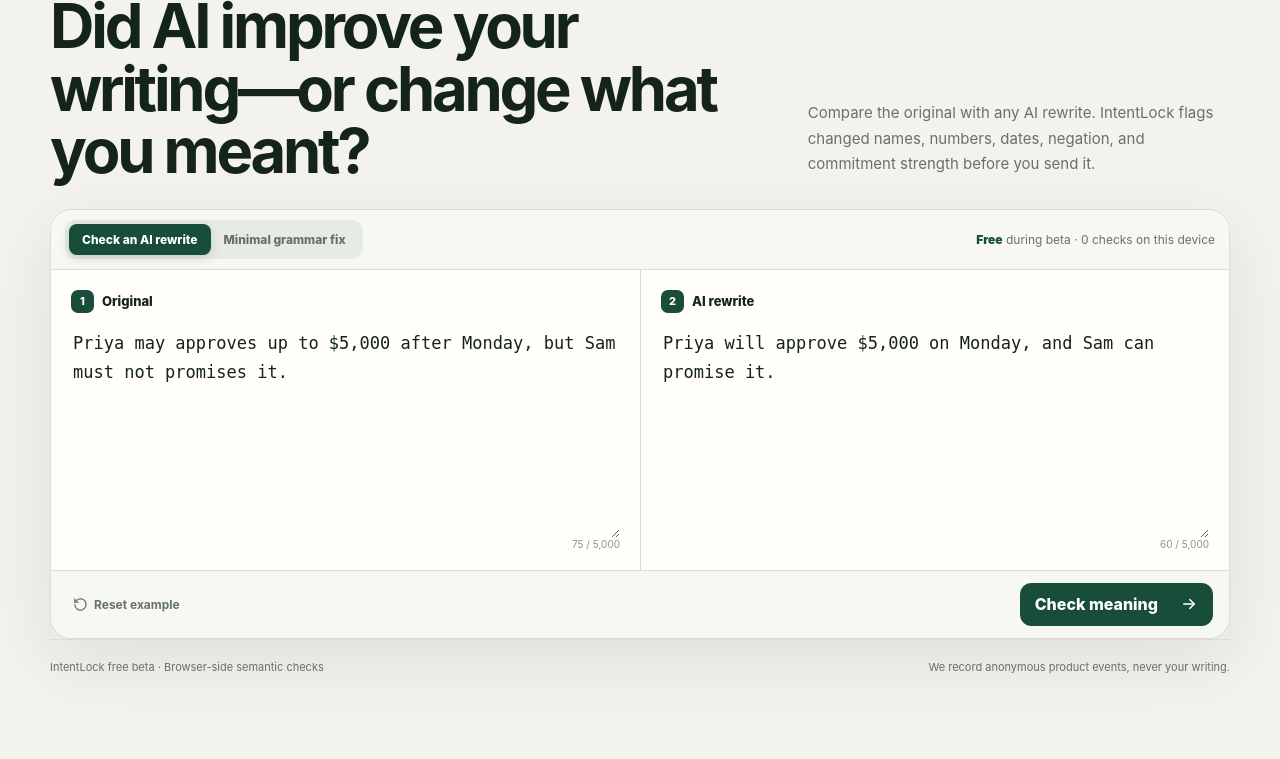
Test case: IntentLock main flow › shows semantic risks for the example rewrite
Click the button "Check meaning": (1116,604) [1020,583,1213,626]
(page scrolled)
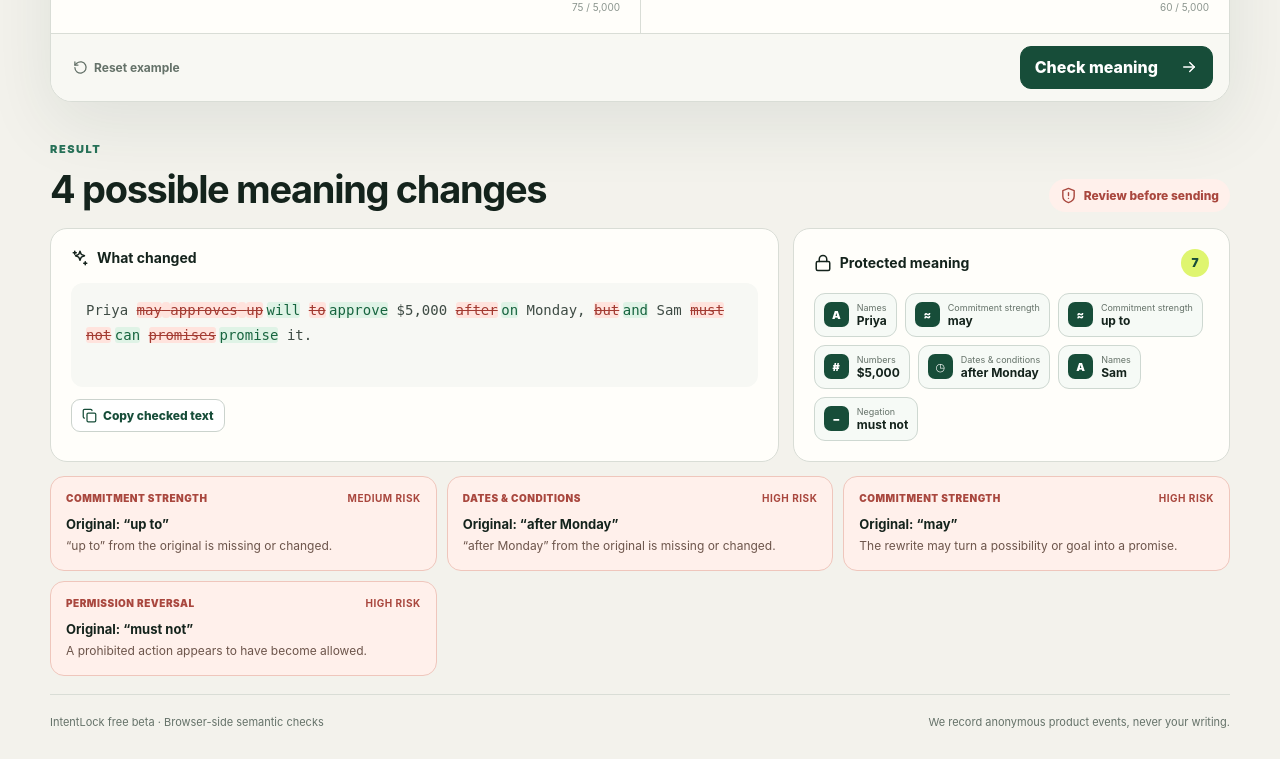
Check: the heading "4 possible meaning changes" is shown, box [50,166,546,212]
Check: the text "Permission reversal" is shown, box [66,597,195,609]
